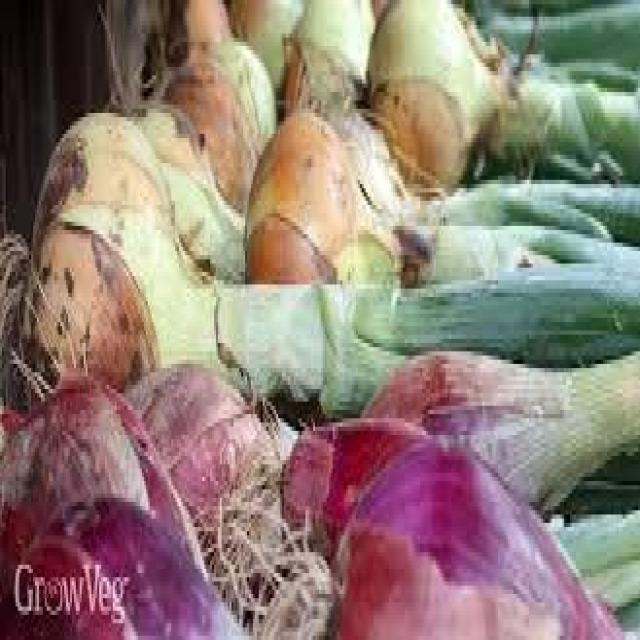Onion: (218, 431, 624, 640), (0, 113, 228, 414), (198, 283, 640, 417), (1, 370, 211, 580), (122, 364, 285, 627), (98, 0, 277, 218), (4, 498, 253, 640), (358, 354, 562, 516), (469, 2, 640, 182), (355, 2, 495, 195), (402, 179, 640, 280), (246, 111, 363, 291), (554, 506, 640, 640), (281, 0, 374, 121), (227, 0, 299, 100), (151, 0, 229, 79), (372, 111, 374, 119)
